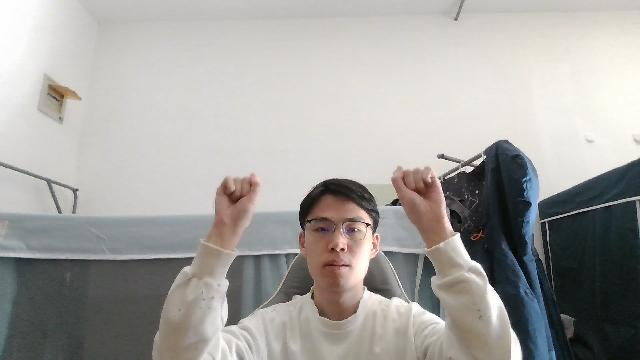ten: (390, 163, 452, 239), (207, 170, 264, 244)
